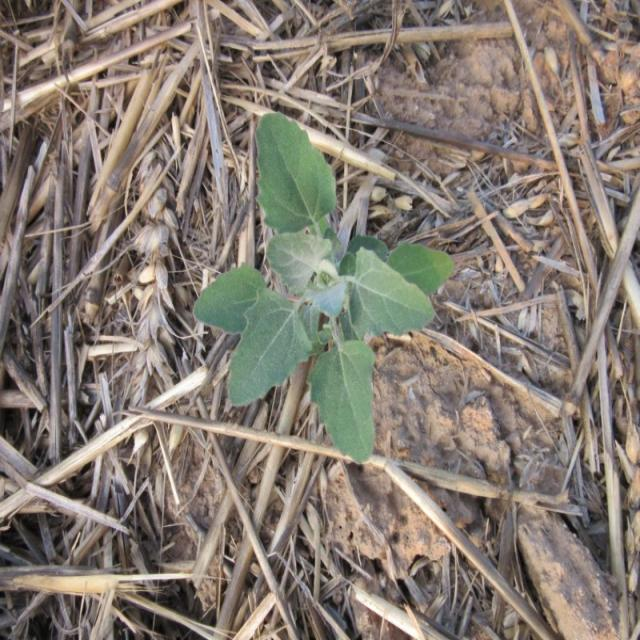ca: (197, 116, 441, 459)
